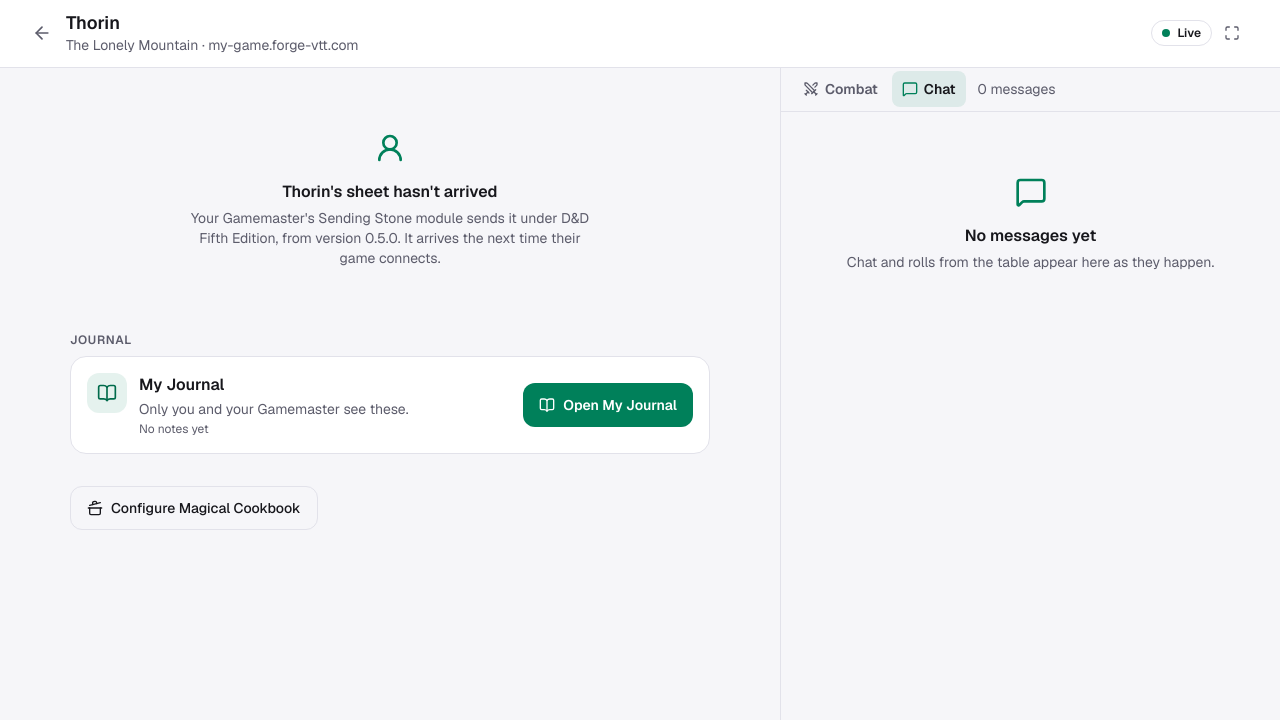
Test: components/game-table, the Magical Recipe Book (module 0.38.0), from the cog since round 0.39.0 › offers it under why there’s no sheet, after the journal’s card, in a column of its own, opening the same modal
Step 1. Click the button "Configure Magical Cookbook" → (194, 508), box [70,486,318,530]
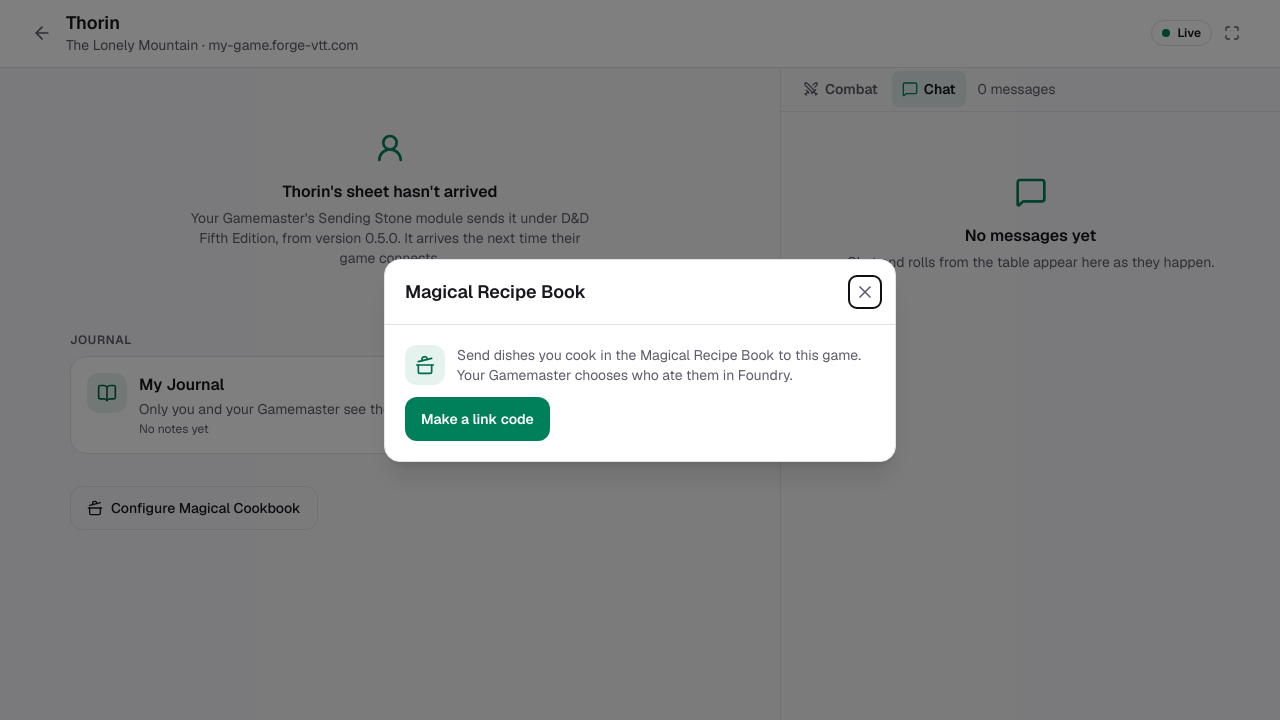
expect the button "Make a link code" is shown: met, box [405,396,550,440]
